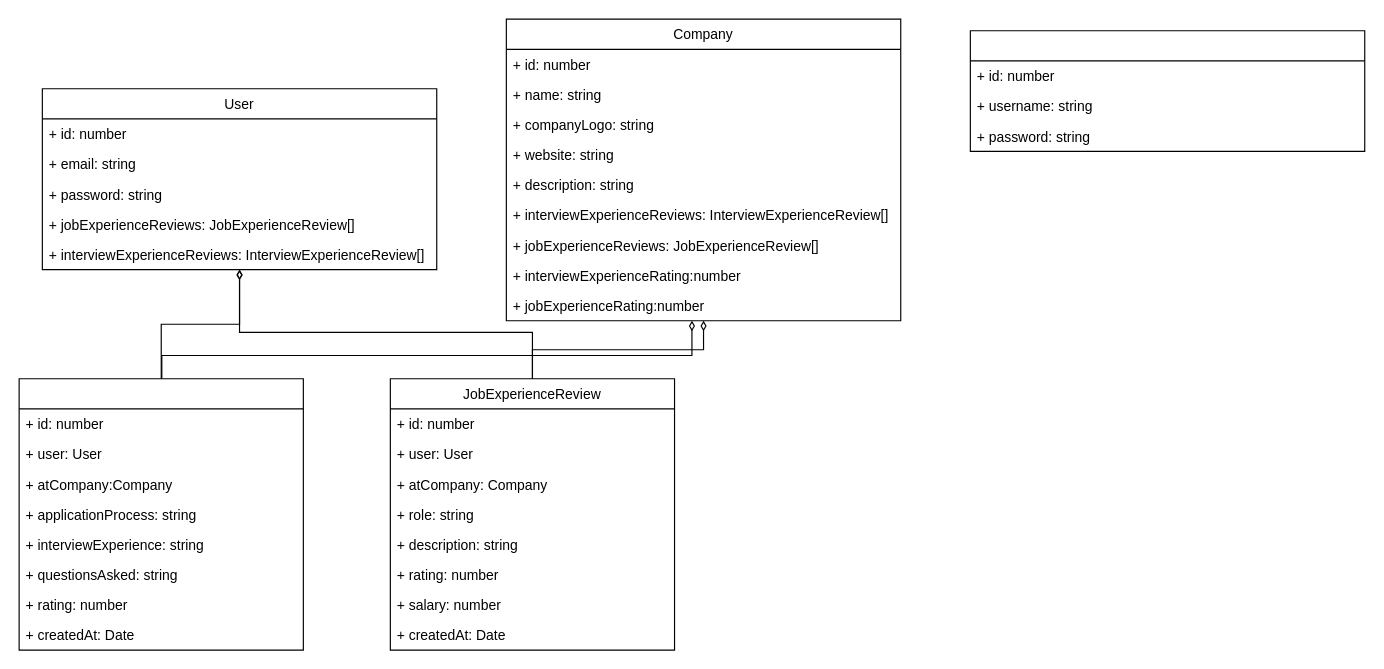
This 1384x669 diagram has some shape labels left out. The shapes that lost their labels are listed below. From the top down, each one's box as (x1, y1, x2, y2) in pixels, then its label:
(969, 30, 1365, 151): Admin
(18, 378, 303, 650): InterviewExperienceReview
